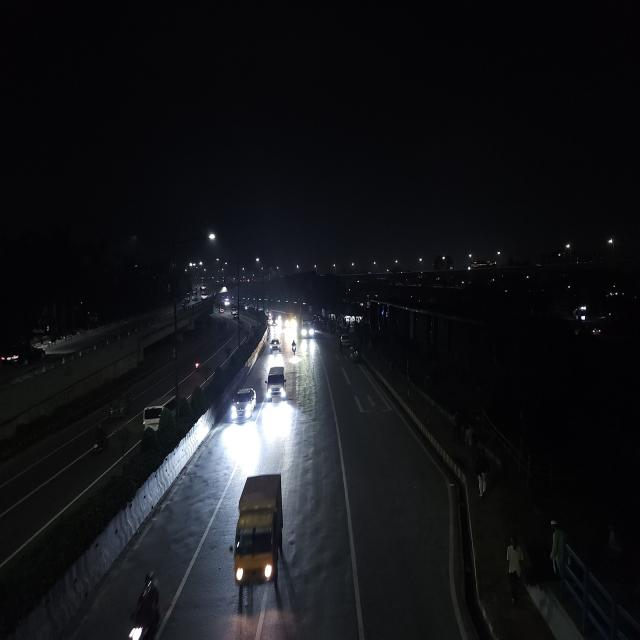bus: (300, 314, 316, 342)
car: (140, 392, 186, 438), (228, 385, 258, 426), (262, 364, 289, 404), (268, 337, 284, 355), (339, 332, 352, 346)
cng: (102, 385, 137, 423), (348, 342, 361, 364)
motorcycle: (86, 418, 110, 454), (190, 348, 204, 376), (287, 338, 302, 358)
pickup_van: (232, 471, 286, 602)
